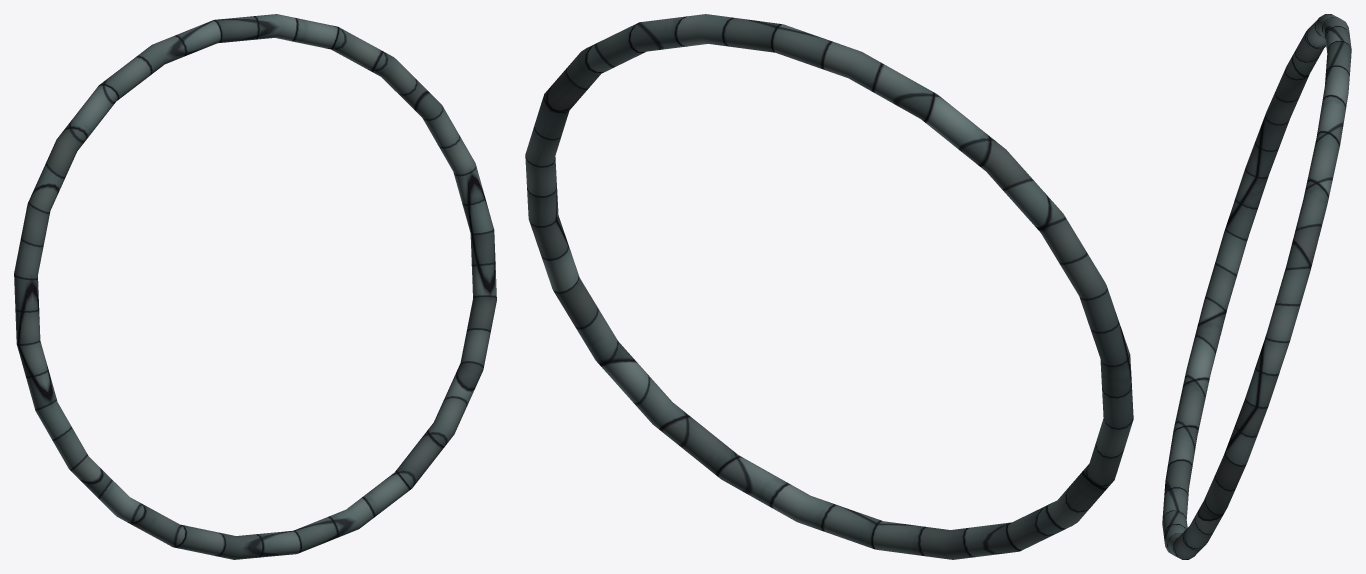
Rendered from aro2.obj.
3 views of the same model, side by side, from view 1: azimuth 30°, elevation 25°; view 2: azimuth 150°, elevation 25°; view 3: azimuth 270°, elevation 25° (orthographic). The views are drawn at different scales.
Parts seen in each view (by area): view 1: Torus004; view 2: Torus004; view 3: Torus004.
Part boxes in pixels (x1,y1,x2,y2): Torus004: (14,14,496,559); Torus004: (525,14,1133,559); Torus004: (1162,14,1351,559).
Bounding box in the file's own units: 72.58 × 69.23 × 24.16.
Materials: 1 (1 with a texture image).
